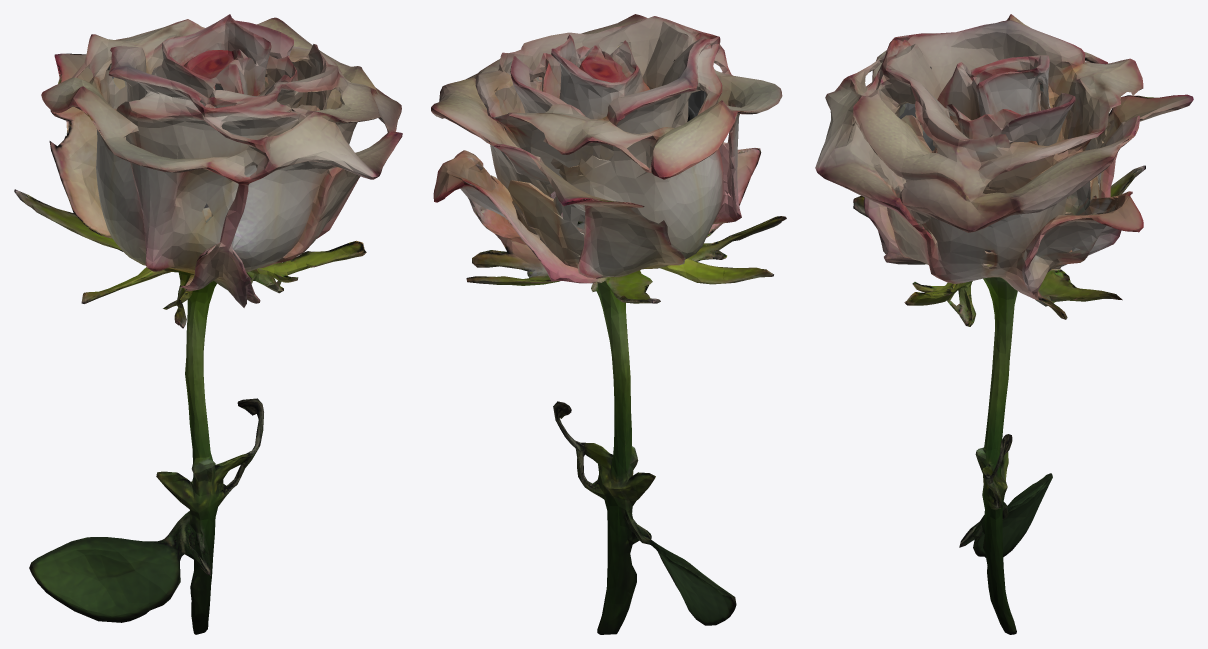
3 views of the same model, side by side, from view 1: azimuth 30°, elevation 25°; view 2: azimuth 150°, elevation 25°; view 3: azimuth 270°, elevation 25° (orthographic). The views are drawn at different scales.
Parts seen in each view (by area): view 1: world; view 2: world; view 3: world.
Boxes of the visible parts, x1=… form: world: x1=14, y1=14, x2=402, y2=634; world: x1=431, y1=14, x2=786, y2=634; world: x1=815, y1=14, x2=1193, y2=634.
Size of the model in its own units: 0.5542 by 0.9581 by 0.5621.
Materials: 1 (1 with a texture image).
